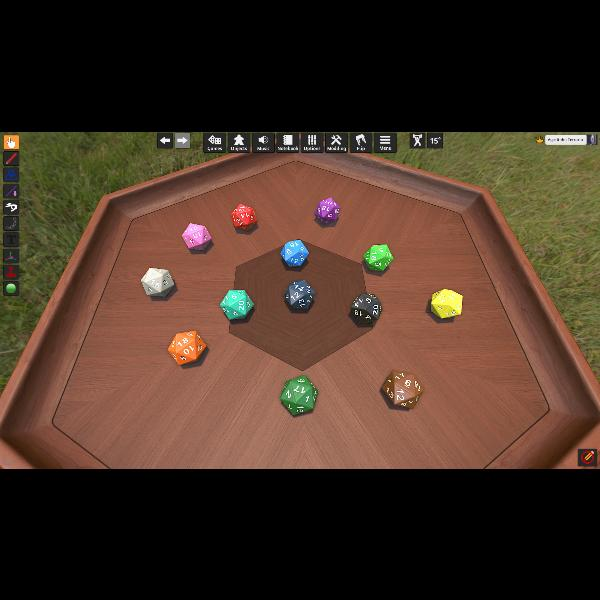d20: (280, 374, 318, 413), (382, 370, 416, 408), (170, 331, 206, 365), (141, 266, 175, 298), (219, 289, 252, 319), (430, 288, 461, 318), (284, 280, 314, 308), (364, 243, 392, 271), (182, 223, 210, 251), (280, 239, 308, 267), (350, 292, 378, 320), (231, 202, 257, 230), (314, 196, 340, 224)
